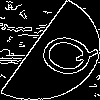Q: (25, 25, 100, 83)
